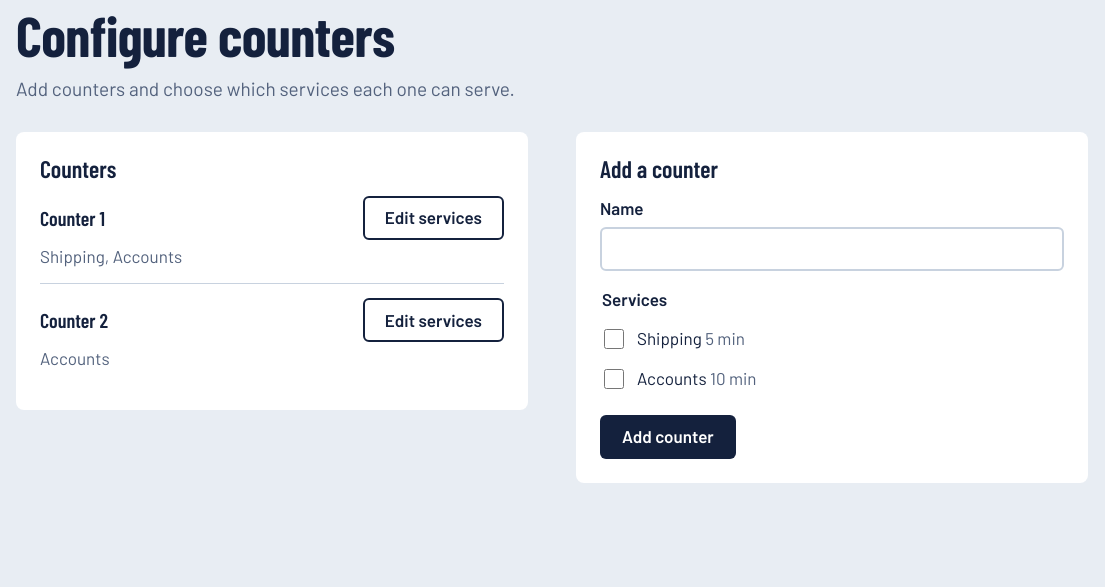
Test: Config counters › explains a name that is already taken
The image size is (1105, 587).
In the field labelled "Name": coordinates (832, 249) [600,227,1064,271], type "Counter 1"
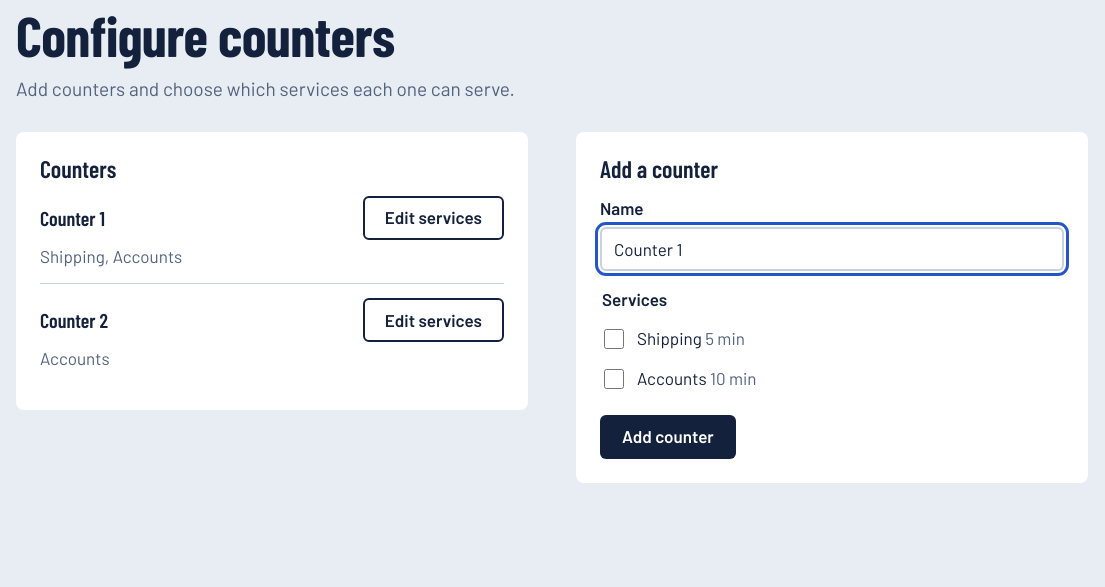
Click the button "Add counter": coordinates (668, 437) [600,415,736,459]
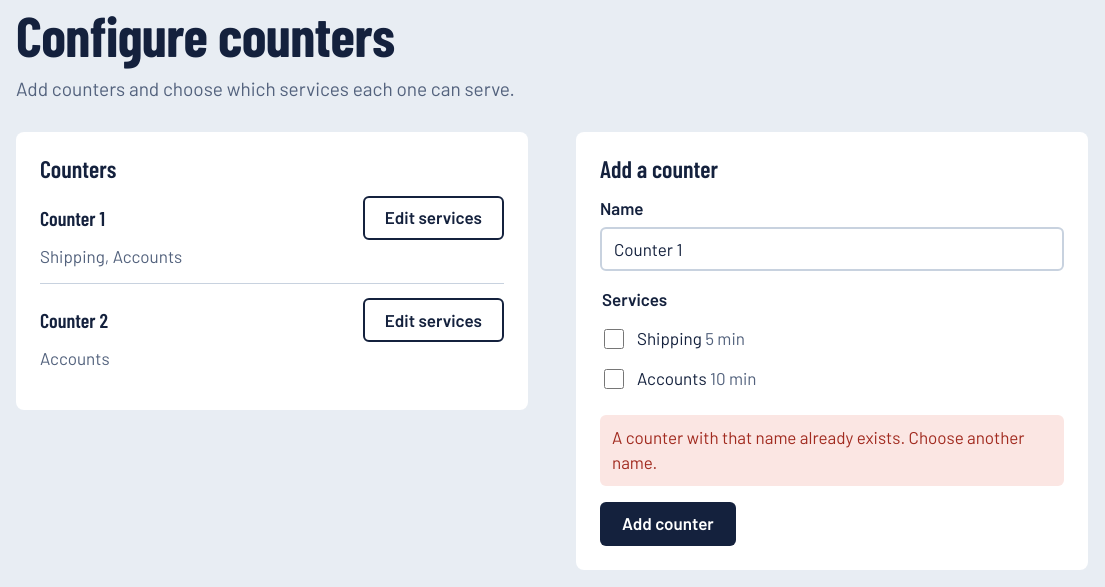
Result: the message shows "A counter with that name already exists" at [612,427,1024,472]
